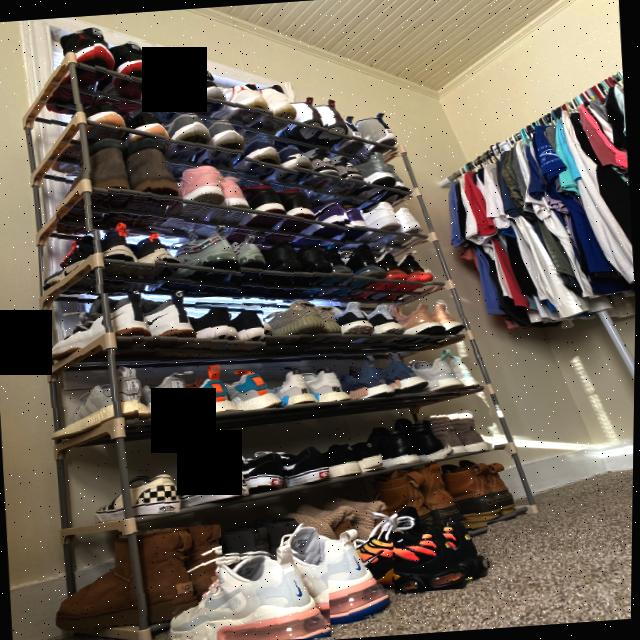shoe: (46, 524, 228, 628), (169, 544, 334, 640), (277, 518, 399, 626), (346, 511, 493, 596), (40, 224, 177, 298), (49, 98, 171, 176), (152, 226, 269, 300), (151, 296, 281, 361), (43, 288, 155, 359), (104, 136, 184, 235), (51, 139, 135, 233), (46, 367, 158, 432), (40, 27, 119, 118), (283, 241, 390, 306), (162, 109, 247, 190), (226, 180, 317, 252), (239, 238, 335, 306), (148, 166, 230, 240), (205, 81, 298, 144), (435, 454, 518, 524), (224, 132, 313, 195), (93, 38, 161, 120), (263, 305, 344, 366), (272, 94, 349, 158), (343, 199, 426, 258), (328, 296, 407, 356), (293, 195, 369, 255), (181, 177, 251, 242), (130, 58, 198, 124), (376, 304, 469, 352), (295, 143, 366, 205), (129, 288, 200, 349), (351, 248, 431, 302), (366, 420, 452, 466), (95, 472, 182, 517), (347, 151, 410, 208), (327, 113, 401, 161), (404, 348, 481, 393), (425, 406, 496, 454), (174, 463, 252, 505), (137, 370, 200, 420), (336, 354, 399, 401), (223, 366, 286, 412), (185, 364, 238, 414), (223, 452, 289, 492), (263, 364, 321, 409), (178, 69, 228, 119), (377, 350, 429, 395), (320, 440, 385, 474), (277, 446, 331, 484), (303, 365, 352, 403)
